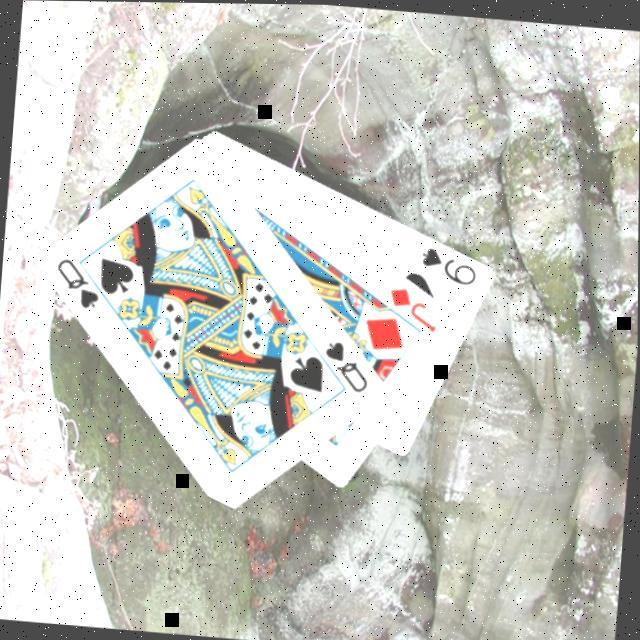9S: (416, 241, 484, 286)
JD: (385, 280, 444, 334)
QS: (320, 334, 376, 394), (52, 252, 106, 312)
